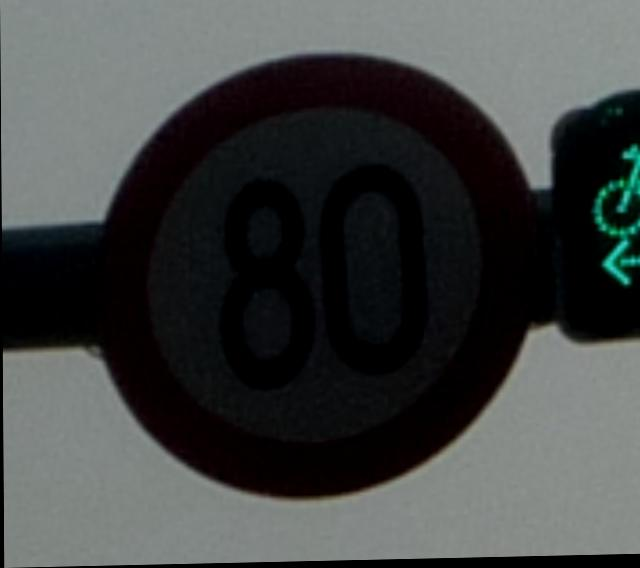limit80: (85, 31, 549, 516)
